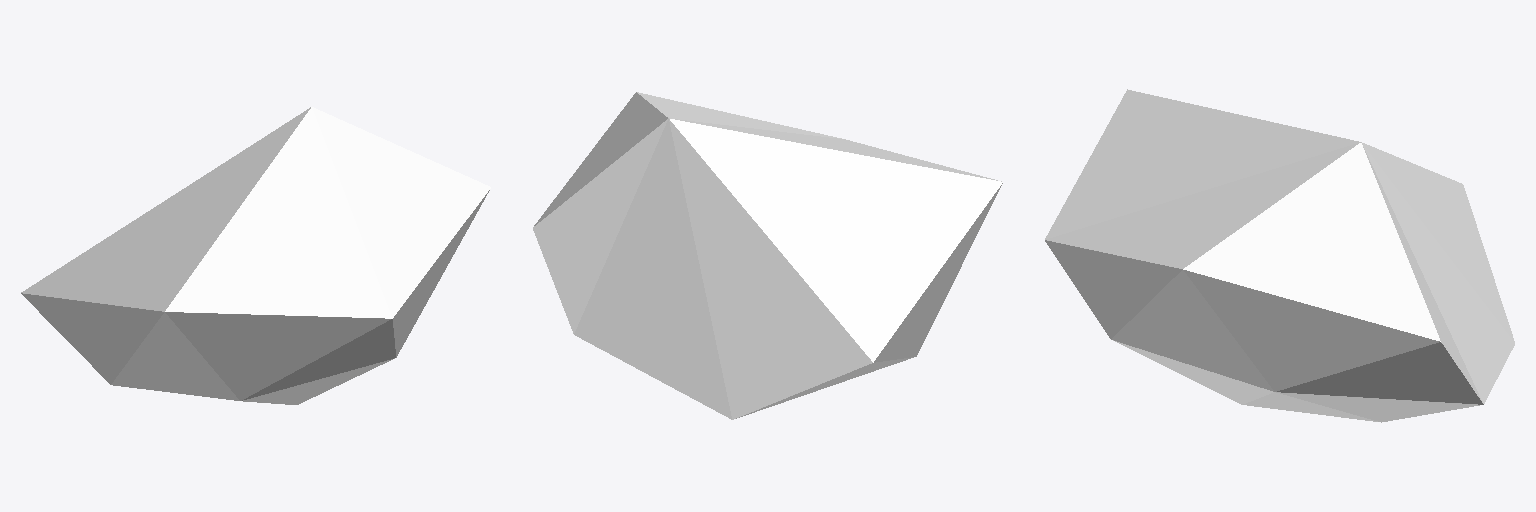
URDF robot description (hyq_rfleg_rom):
 <robot name="hyq_rfleg_rom">
  <link name="hyq_rfleg_link">
    <visual>
      <origin xyz="0 0 0" rpy="0 0 0" />
      <geometry>
        <mesh filename="package://hpp-rbprm-corba/meshes/hyq/hyq_rfleg_rom.stl"/>
      </geometry>
      <material name="white">
        <color rgba="1 1 1 1"/>
      </material>
    </visual>
    <collision>
      <origin xyz="0 0 0" rpy="0 0 0" />
      <geometry>
        <mesh filename="package://hpp-rbprm-corba/meshes/hyq/hyq_rfleg_rom.stl"/>
      </geometry>
    </collision>
  </link>
</robot>

--- Facts derived from the render (not from the file) ---
Views: 3 orthographic renders of the robot side by side, from view 1: azimuth 30°, elevation 25°; view 2: azimuth 150°, elevation 25°; view 3: azimuth 270°, elevation 25°.
Model hyq_rfleg_rom with 1 links and 0 joints (none), rooted at hyq_rfleg_link, posed all joints at 0.
Links seen in each view (by area): view 1: hyq_rfleg_link; view 2: hyq_rfleg_link; view 3: hyq_rfleg_link.
Boxes of the visible links, box(x1,y1,x2,y2) form: hyq_rfleg_link: box(21, 107, 490, 404); hyq_rfleg_link: box(533, 92, 1002, 419); hyq_rfleg_link: box(1045, 89, 1514, 422).
Bounding box of the posed robot: 0.9491 × 0.8948 × 0.6761 m (x, y, z).
Meshes: 1 distinct files referenced, 1 mesh visuals loaded (1 binary STL).